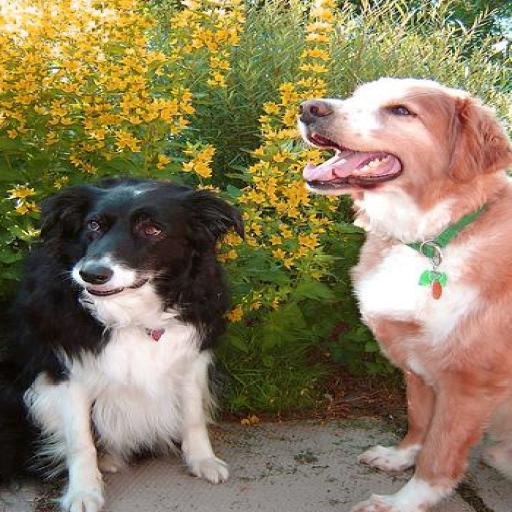dog_face: (50, 178, 244, 299)
